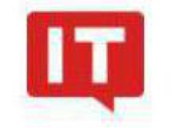ImgButton: (1, 1, 170, 139)
